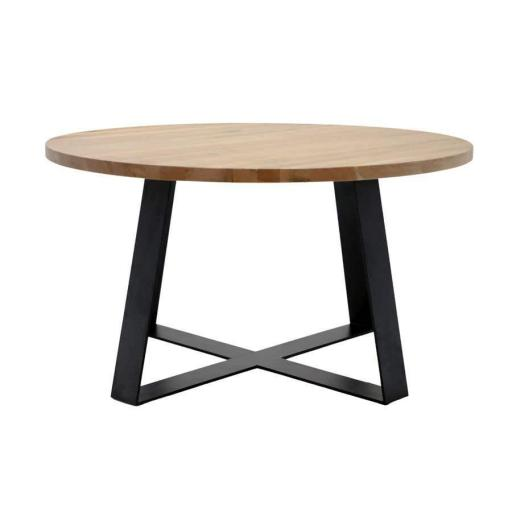table: (37, 113, 477, 418)
